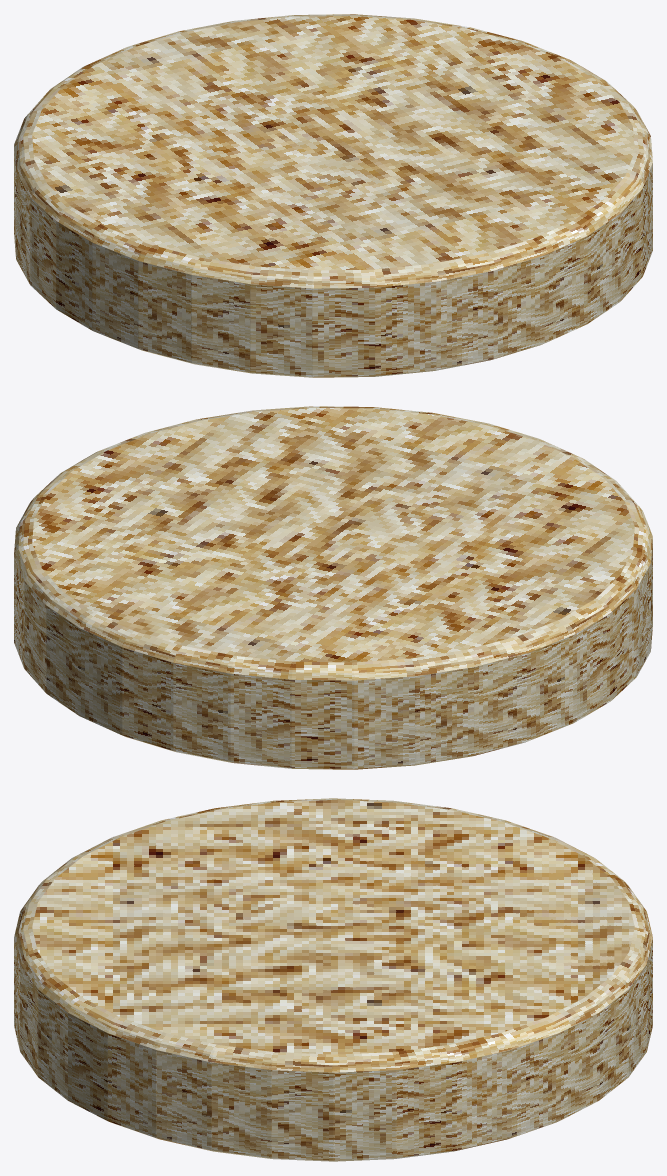
File: ChowMeinNoodles.fbx
3 renders of one model, top to bottom at view 1: azimuth 30°, elevation 25°; view 2: azimuth 150°, elevation 25°; view 3: azimuth 270°, elevation 25°, orthographic.
Visible parts, largest first — view 1: ChowMeinNoodles; view 2: ChowMeinNoodles; view 3: ChowMeinNoodles.
Part boxes in pixels (x1=…): ChowMeinNoodles: x1=14, y1=14, x2=652, y2=377; ChowMeinNoodles: x1=14, y1=406, x2=652, y2=769; ChowMeinNoodles: x1=14, y1=798, x2=652, y2=1161.
Bounding box in the file's own units: 0.1996 × 0.0354 × 0.1996.
